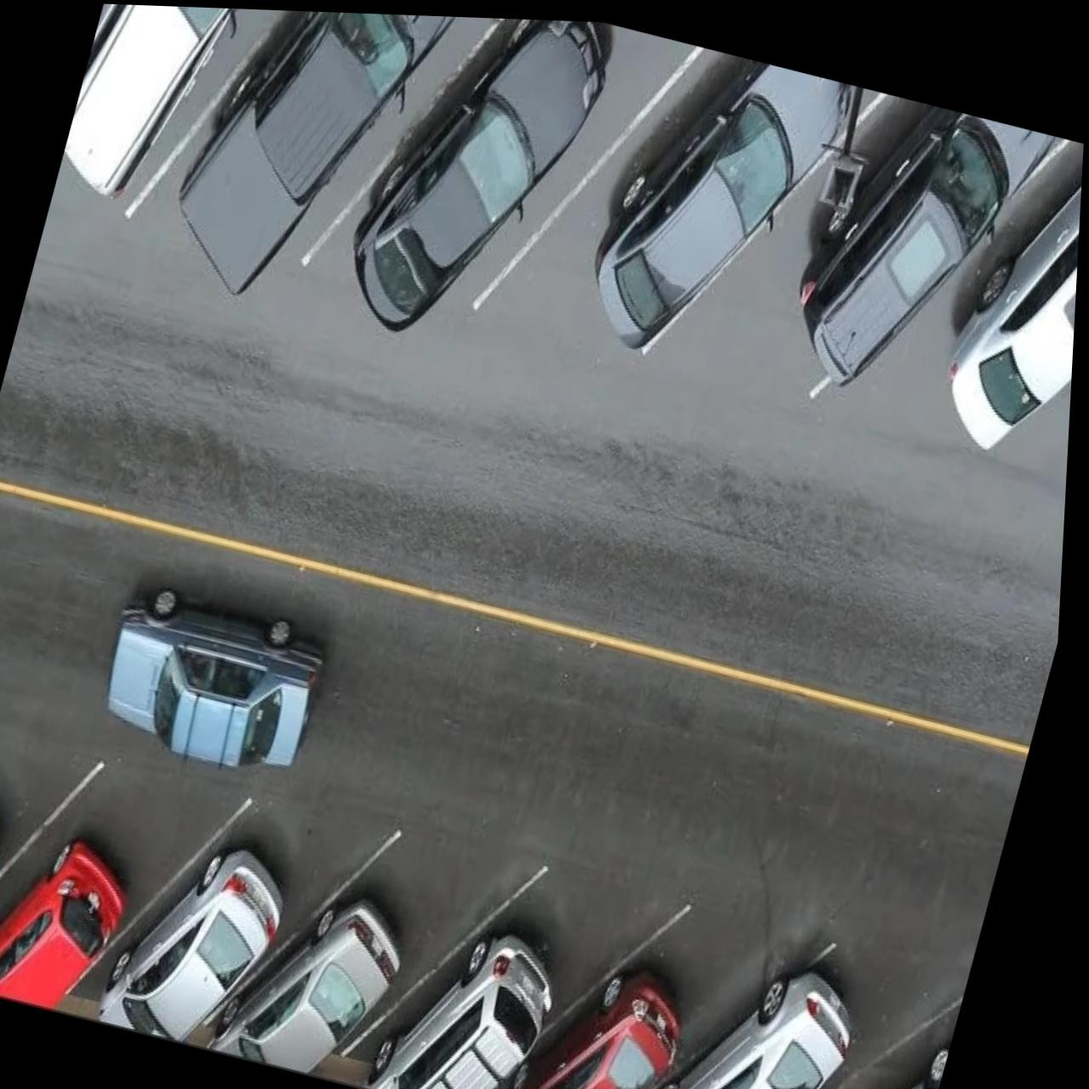cars: (519, 23, 832, 445), (726, 75, 1027, 479), (362, 14, 648, 384), (141, 6, 444, 324), (204, 785, 469, 1089), (896, 117, 1085, 514), (373, 821, 639, 1089), (88, 769, 327, 1066), (507, 842, 791, 1089), (43, 2, 298, 270), (0, 739, 217, 1038), (625, 879, 884, 1089), (789, 933, 972, 1089), (0, 708, 63, 991)
